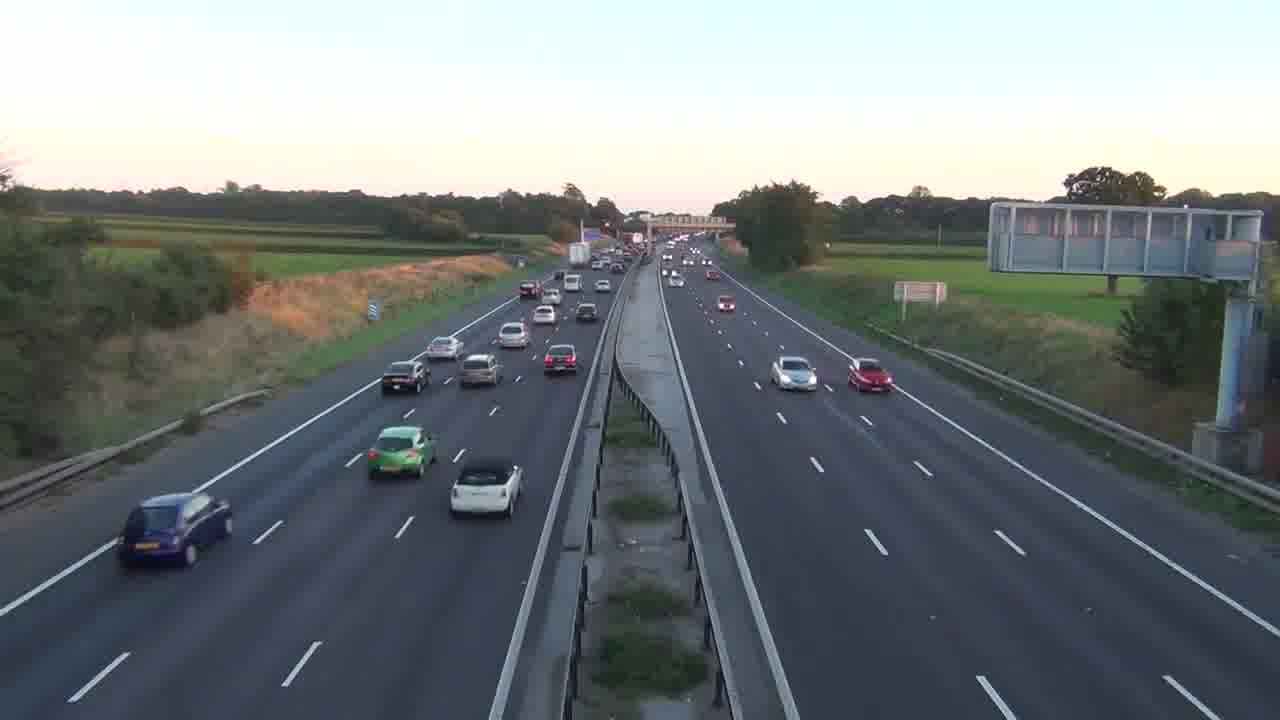car: (116, 492, 233, 569), (448, 454, 525, 519), (367, 425, 437, 479), (769, 355, 818, 392), (382, 357, 432, 393), (847, 357, 895, 394), (459, 352, 503, 388), (422, 336, 465, 361), (496, 320, 531, 350), (575, 302, 599, 323)
